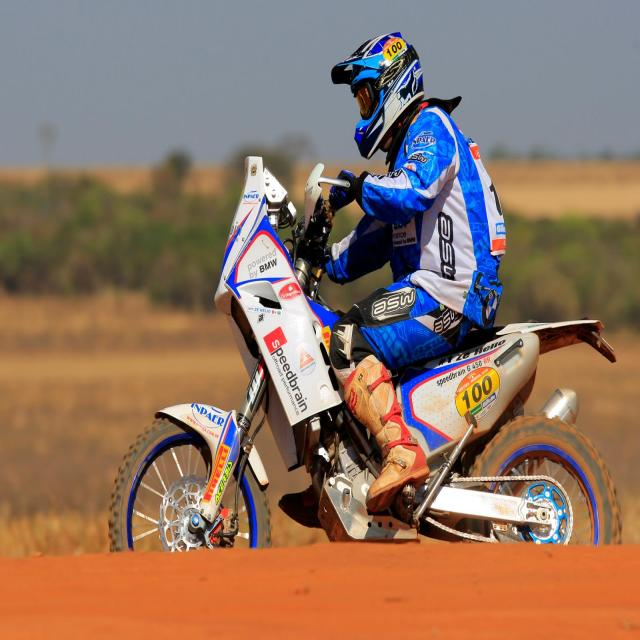illegal_helmet: (326, 27, 428, 164)
